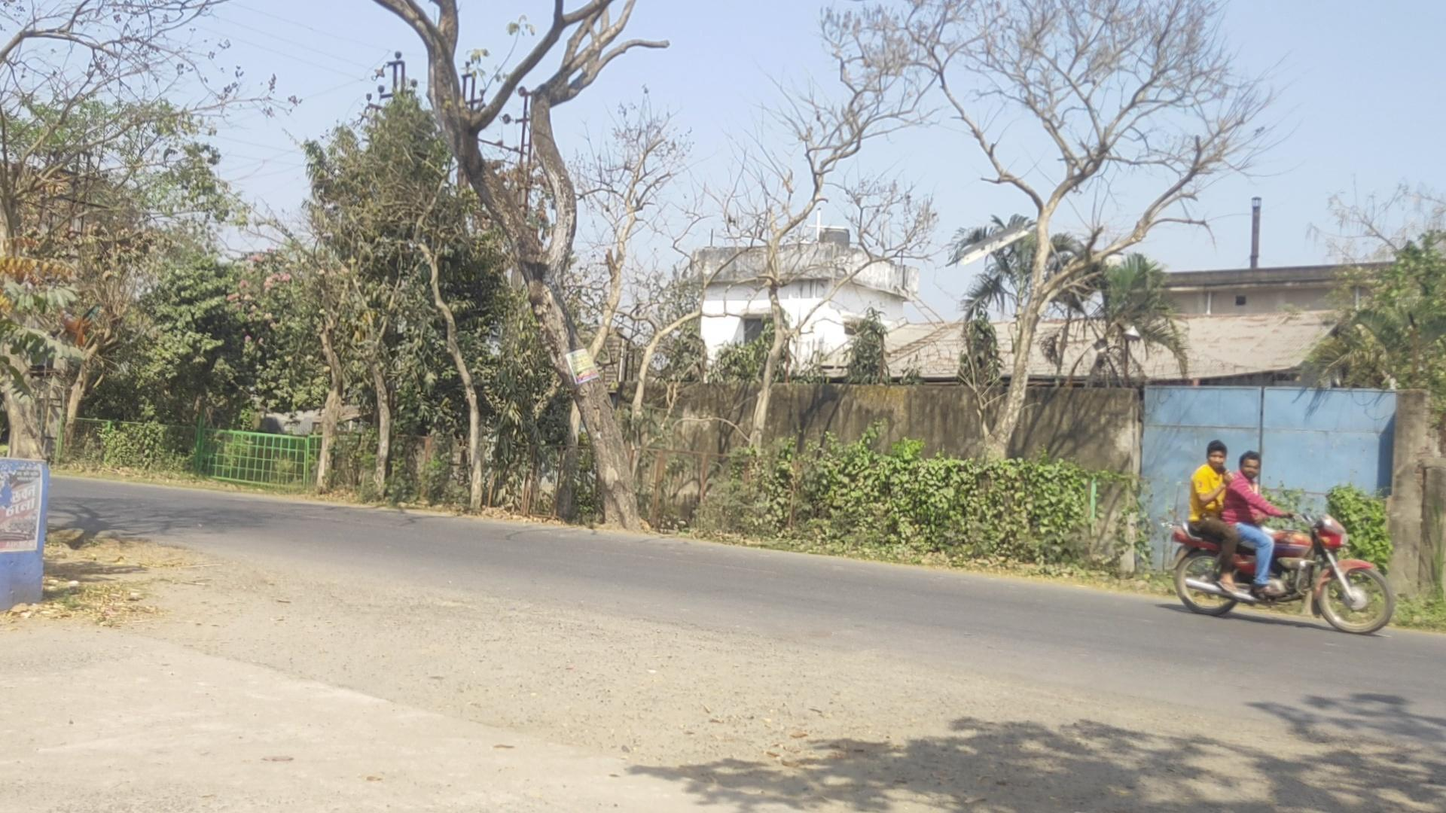bike: (1167, 440, 1395, 636)
